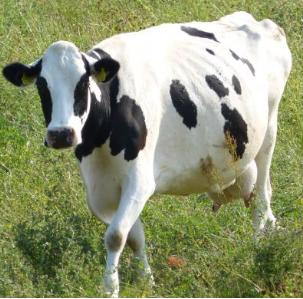cow: (1, 10, 292, 299)
